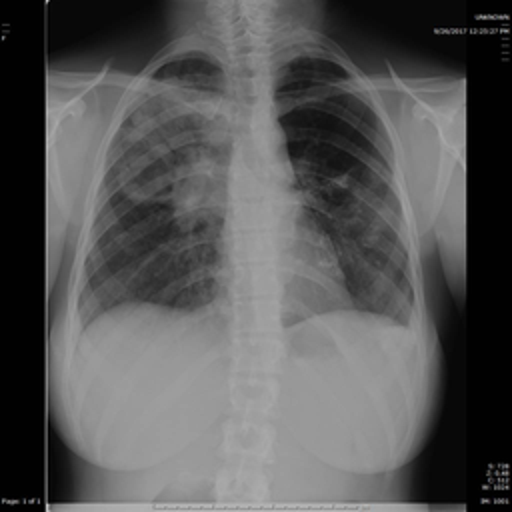TB: (105, 78, 218, 233)
